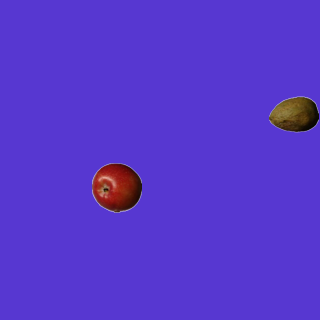Apple Braeburn: (91, 162, 141, 212)
Papaya: (268, 89, 318, 139)
